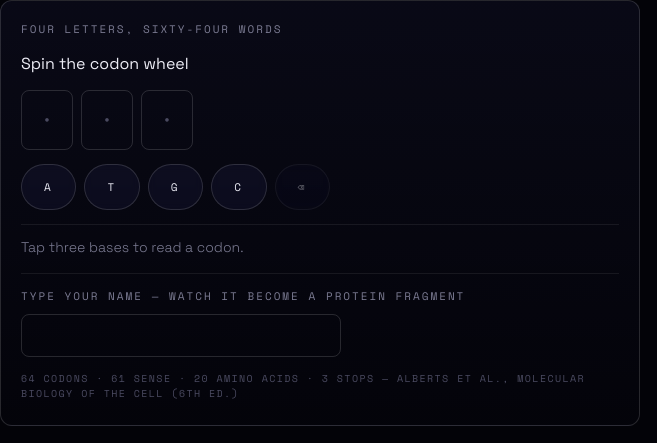
Test case: CodonWheel › announces redundancy for a six-codon amino acid
Click the button "T".
click(112, 187)  # box 84,164 -> 140,210
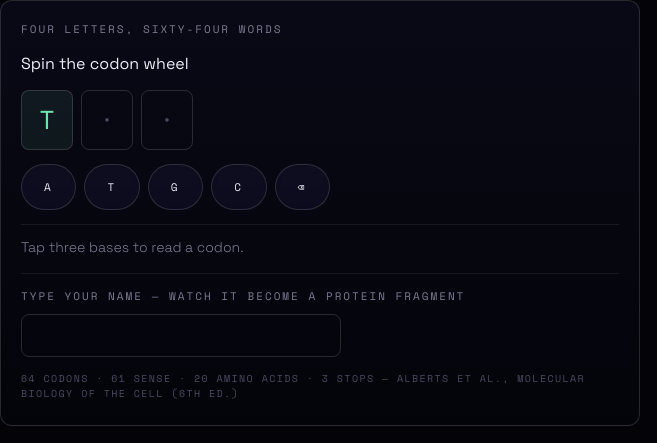
Click the button "T".
click(112, 187)  # box 84,164 -> 140,210
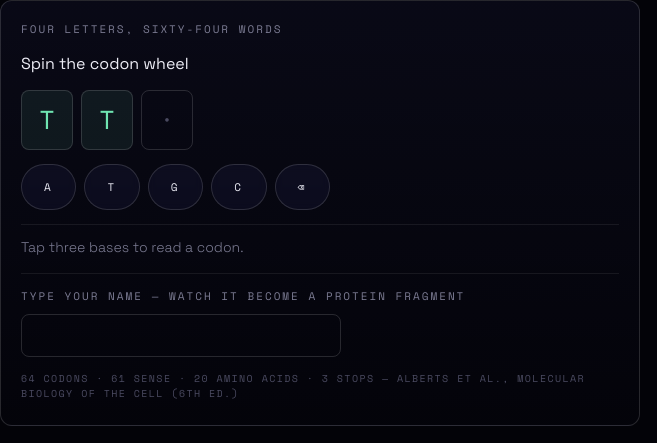
Click the button "A".
click(49, 187)  # box 21,164 -> 76,210
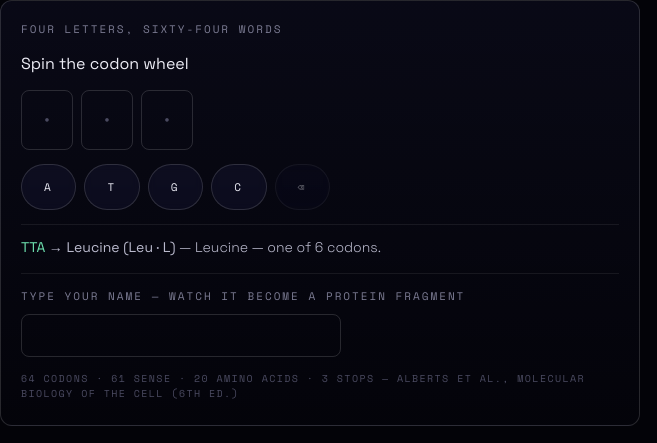
Expected: the message shows "Leucine — one of 6 codons", 195,238 -> 381,256
